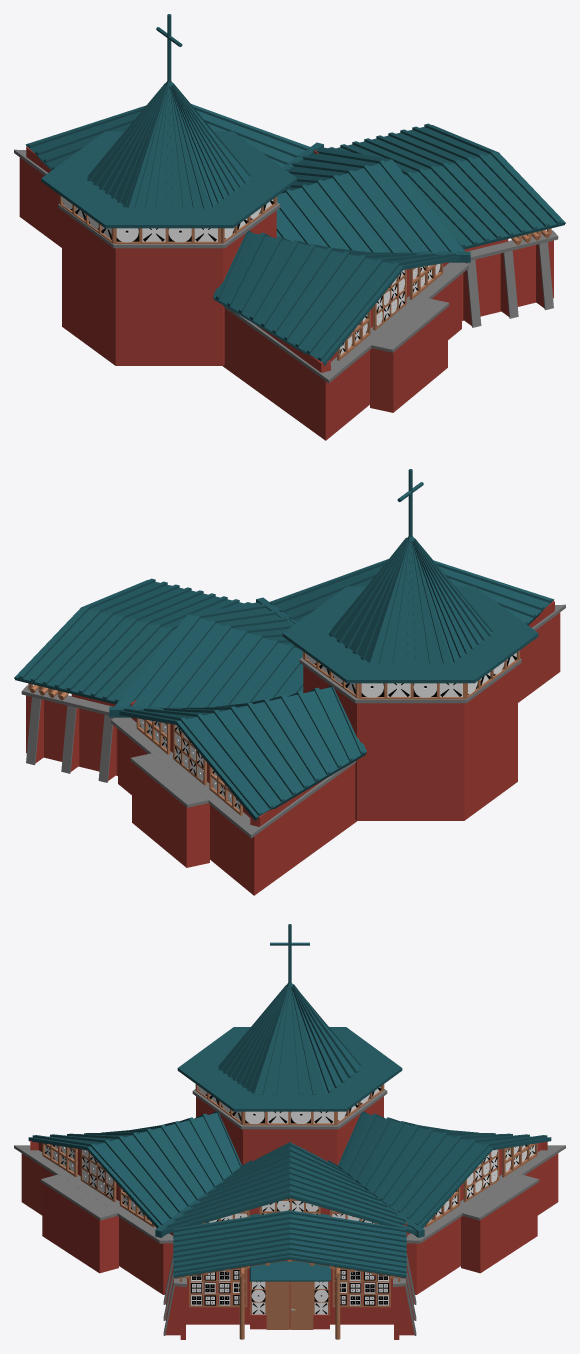
The model's file is katoriku.glb.
3 renders of one model, top to bottom at view 1: azimuth 30°, elevation 25°; view 2: azimuth 150°, elevation 25°; view 3: azimuth 270°, elevation 25°, orthographic. The views are drawn at different scales.
Visible parts, largest first — view 1: 立方体.005, 立方体.002, 立方体.032, 立方体.039, 立方体.059, 立方体.006; view 2: 立方体.005, 立方体.002, 立方体.032, 立方体.039, 立方体.059, 立方体.006; view 3: 立方体.005, 立方体.002, 立方体.039, 立方体.032, 立方体.059, 立方体.006.
Part boxes in pixels (<box>): 立方体.005: <box>25,14,565,365</box>; 立方体.002: <box>19,147,553,440</box>; 立方体.032: <box>14,149,558,383</box>; 立方体.039: <box>59,195,551,360</box>; 立方体.059: <box>62,197,440,354</box>; 立方体.006: <box>63,200,439,353</box>; 立方体.005: <box>14,469,554,820</box>; 立方体.002: <box>26,601,560,895</box>; 立方体.032: <box>21,604,565,838</box>; 立方体.039: <box>28,650,519,815</box>; 立方体.059: <box>139,653,516,809</box>; 立方体.006: <box>140,655,516,808</box>; 立方体.005: <box>28,924,551,1281</box>; 立方体.002: <box>21,1096,558,1339</box>; 立方体.039: <box>42,1084,537,1339</box>; 立方体.032: <box>14,1089,565,1335</box>; 立方体.059: <box>45,1085,534,1314</box>; 立方体.006: <box>45,1087,534,1314</box>.
Size of the model in its own units: 37.46 by 26.86 by 47.93.
Materials: 7 (6 with a texture image).
